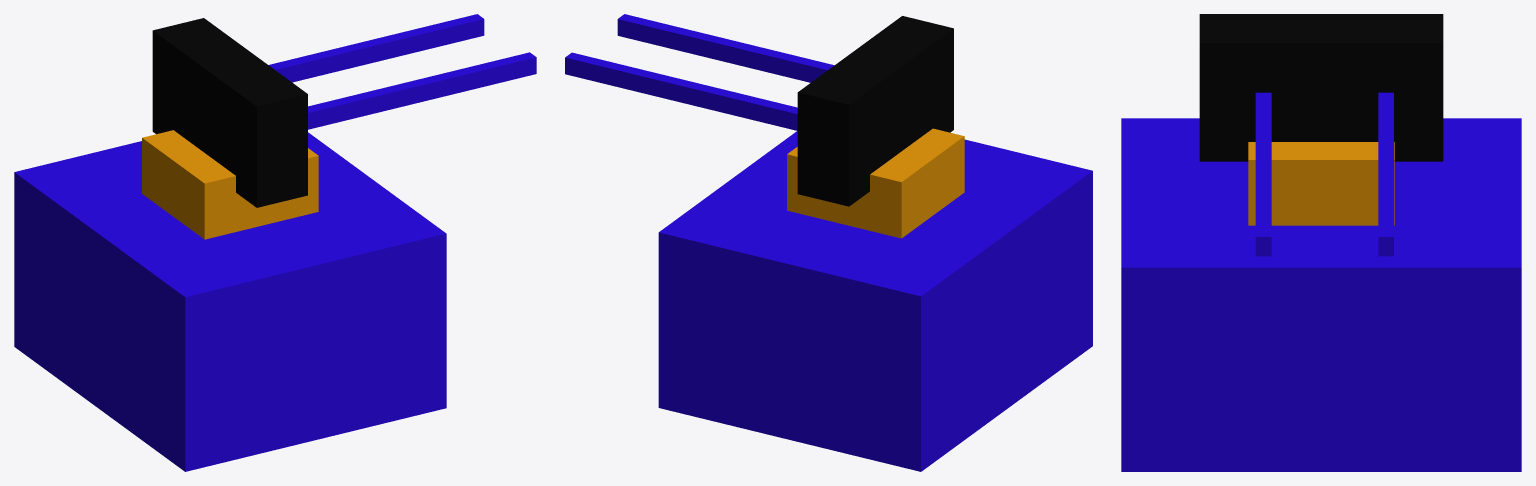
The model's file is blueattackbuilding.glb.
3 renders of one model, left to right at view 1: azimuth 30°, elevation 25°; view 2: azimuth 150°, elevation 25°; view 3: azimuth 270°, elevation 25°, orthographic. The views are drawn at different scales.
Parts seen in each view (by area): view 1: Cube.002, Cube.001, Cube, Cube.003, Cube.004; view 2: Cube.002, Cube.001, Cube, Cube.004, Cube.003; view 3: Cube.002, Cube.001, Cube, Cube.003, Cube.004.
Part boxes in pixels (<box>): Cube.002: <box>14,132,446,471</box>; Cube.001: <box>152,18,307,207</box>; Cube: <box>142,130,318,239</box>; Cube.003: <box>308,52,536,129</box>; Cube.004: <box>268,14,484,82</box>; Cube.002: <box>658,131,1092,471</box>; Cube.001: <box>797,16,953,206</box>; Cube: <box>787,128,964,238</box>; Cube.004: <box>565,52,797,130</box>; Cube.003: <box>617,14,834,82</box>; Cube.002: <box>1121,118,1521,471</box>; Cube.001: <box>1199,14,1443,161</box>; Cube: <box>1248,142,1394,225</box>; Cube.003: <box>1255,92,1271,256</box>; Cube.004: <box>1378,92,1393,256</box>.
Size of the model in its own units: 8.5 by 6.26 by 6.16.
